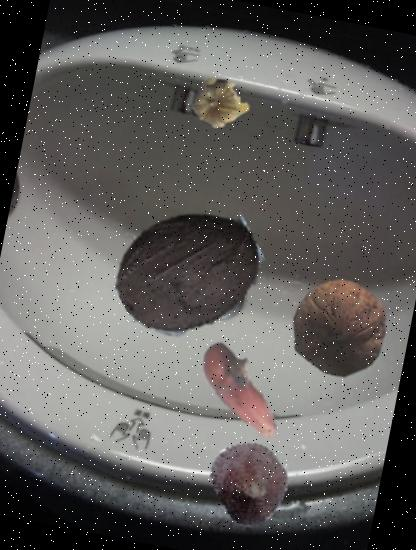Banana: (180, 324, 309, 452)
Cocos: (102, 184, 274, 356)
Physalis: (185, 68, 255, 138)
Salak: (202, 433, 300, 530)
Walnut: (281, 269, 398, 386)
